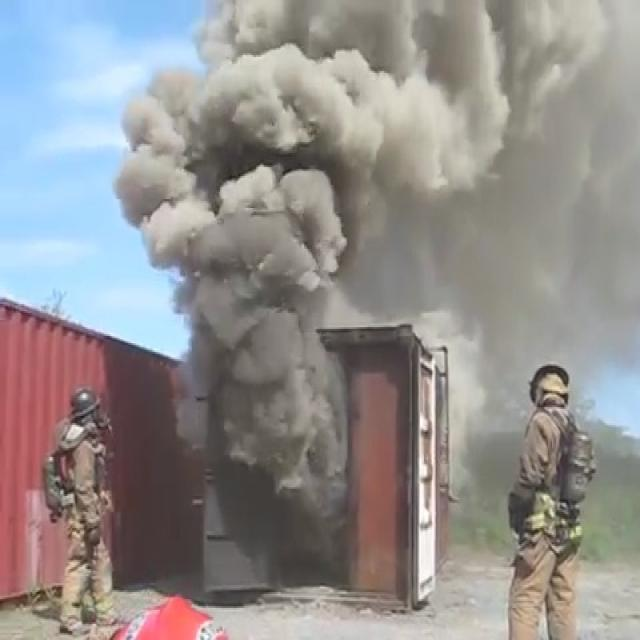Smoke: (140, 10, 394, 592)
